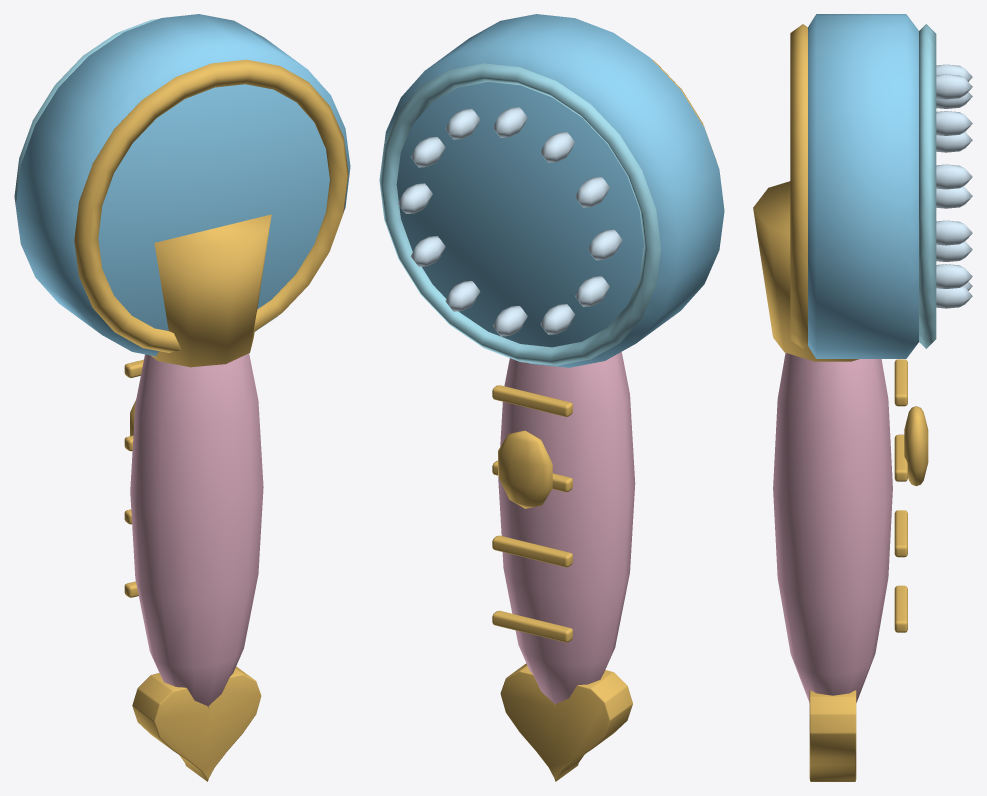
File: brush_sparkle.glb
The picture shows the model from 3 angles, left to right: view 1: azimuth 30°, elevation 25°; view 2: azimuth 150°, elevation 25°; view 3: azimuth 270°, elevation 25°; orthographic projection. The views are drawn at different scales.
Visible parts, largest first — view 1: Head, Body; view 2: Head, Body; view 3: Head, Body.
Boxes of the visible parts, <box> form: Head: <box>14,14,350,356</box>; Body: <box>124,214,271,781</box>; Head: <box>379,14,724,367</box>; Body: <box>492,352,635,781</box>; Head: <box>790,14,972,358</box>; Body: <box>753,181,928,781</box>.
Size of the model in its own units: 0.1043 by 0.25 by 0.0662.
7 materials, 7 textured.
